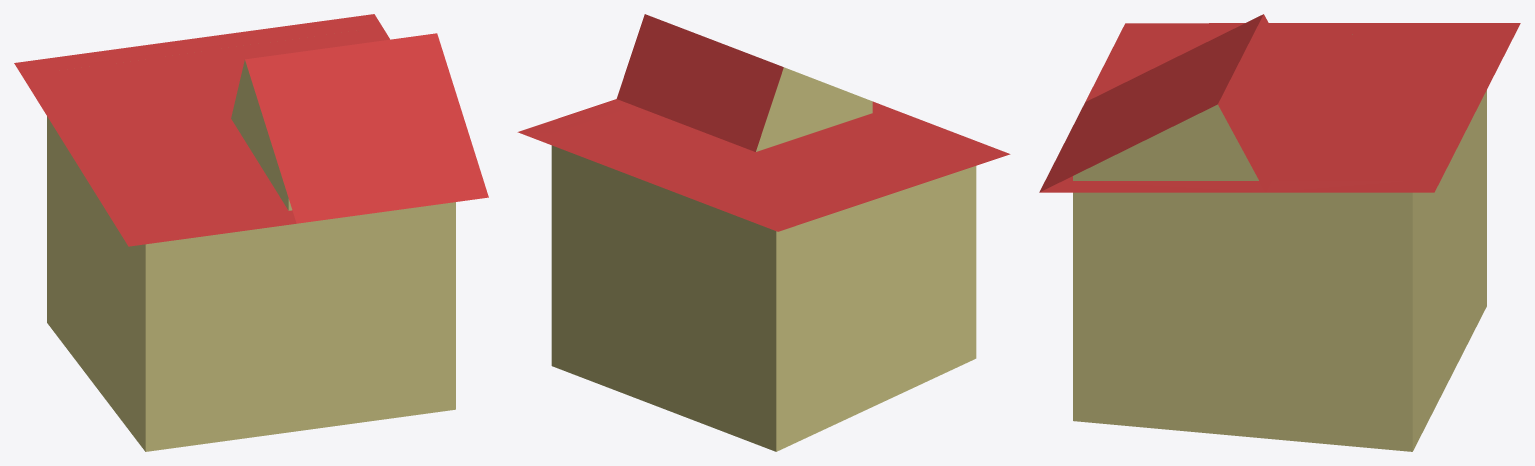
3 views of the same model, side by side, from view 1: azimuth 30°, elevation 25°; view 2: azimuth 150°, elevation 25°; view 3: azimuth 270°, elevation 25° (orthographic). The views are drawn at different scales.
Size of the model in its own units: 8.54 by 8.46 by 6.63.
